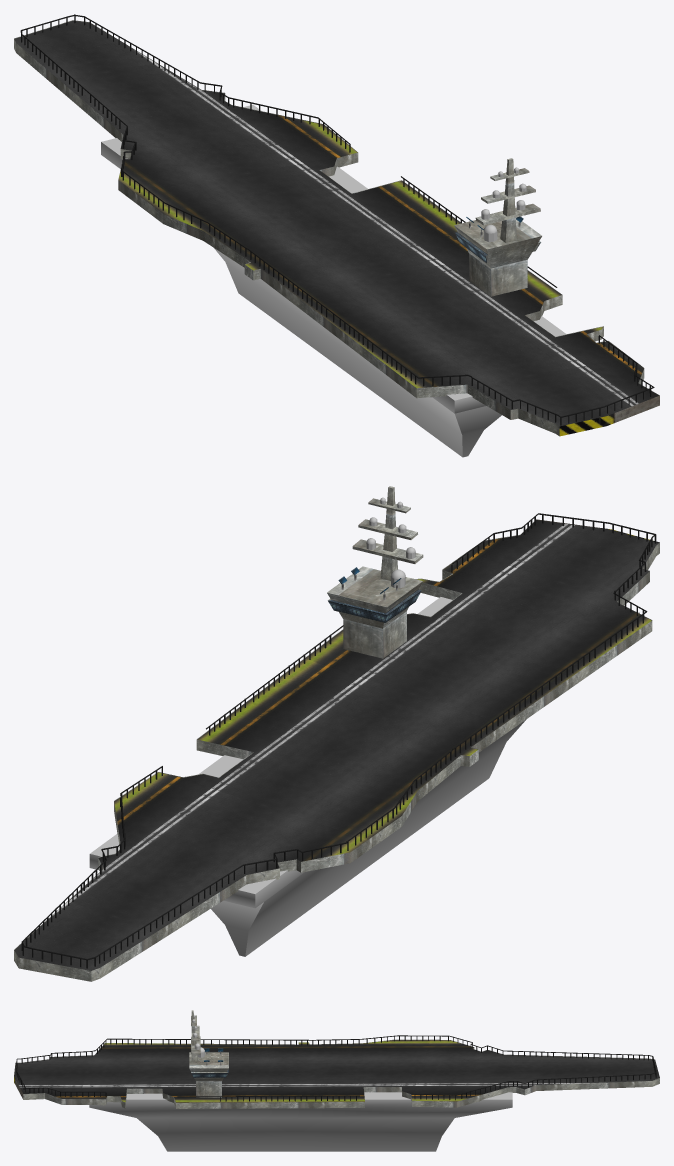
Rendered from aircraft.FBX.
3 views of the same model, one above another, from view 1: azimuth 30°, elevation 25°; view 2: azimuth 150°, elevation 25°; view 3: azimuth 270°, elevation 25° (orthographic). The views are drawn at different scales.
Visible parts, largest first — view 1: aircraft; view 2: aircraft; view 3: aircraft.
Boxes of the visible parts, x1,y1,x2,y2 form: aircraft: [14, 14, 659, 457]; aircraft: [14, 486, 659, 981]; aircraft: [14, 1010, 659, 1151].
Bounding box in the file's own units: 27758 × 32573 × 119660.
